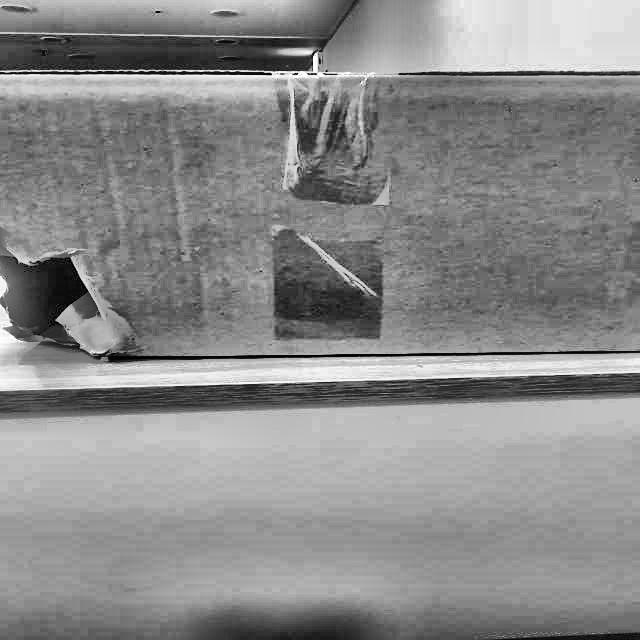box: (0, 57, 640, 362)
hole: (0, 242, 121, 360)
